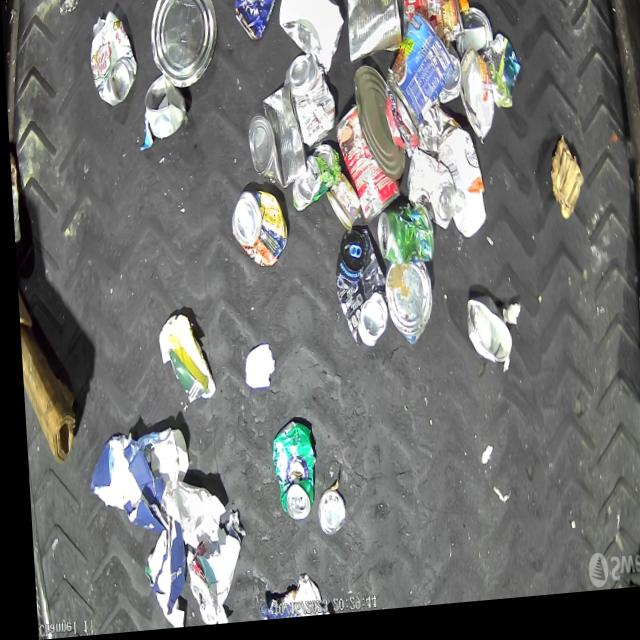can: (380, 15, 455, 138), (333, 107, 399, 230), (329, 233, 386, 355), (244, 86, 307, 195), (147, 0, 220, 93), (352, 69, 404, 188), (86, 8, 138, 109), (282, 58, 336, 153), (264, 424, 311, 527), (227, 191, 285, 273), (402, 153, 453, 240), (380, 268, 431, 353), (344, 0, 403, 70), (371, 209, 430, 274), (287, 148, 339, 216), (398, 0, 464, 52), (461, 304, 508, 377), (457, 55, 493, 150), (141, 73, 186, 138), (233, 0, 287, 48), (322, 177, 359, 237), (454, 14, 493, 68), (435, 51, 461, 113), (309, 493, 340, 541), (7, 148, 19, 245)
